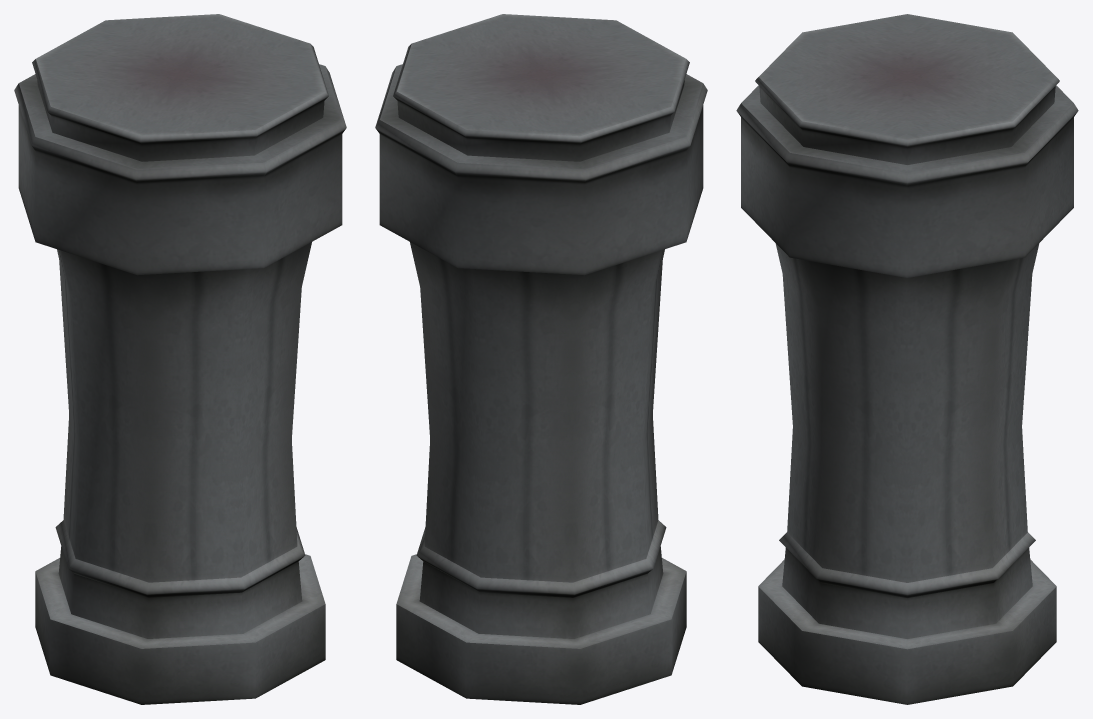
File: FBX_Altar.fbx
3 views of the same model, side by side, from view 1: azimuth 30°, elevation 25°; view 2: azimuth 150°, elevation 25°; view 3: azimuth 270°, elevation 25° (orthographic).
Visible parts, largest first — view 1: pCylinder6; view 2: pCylinder6; view 3: pCylinder6.
Boxes of the visible parts, left/top/right/bottom form: pCylinder6: left=14, top=14, right=346, bottom=704; pCylinder6: left=375, top=14, right=707, bottom=704; pCylinder6: left=736, top=14, right=1078, bottom=704.
Bounding box in the file's own units: 2.36 × 4.29 × 2.36.
